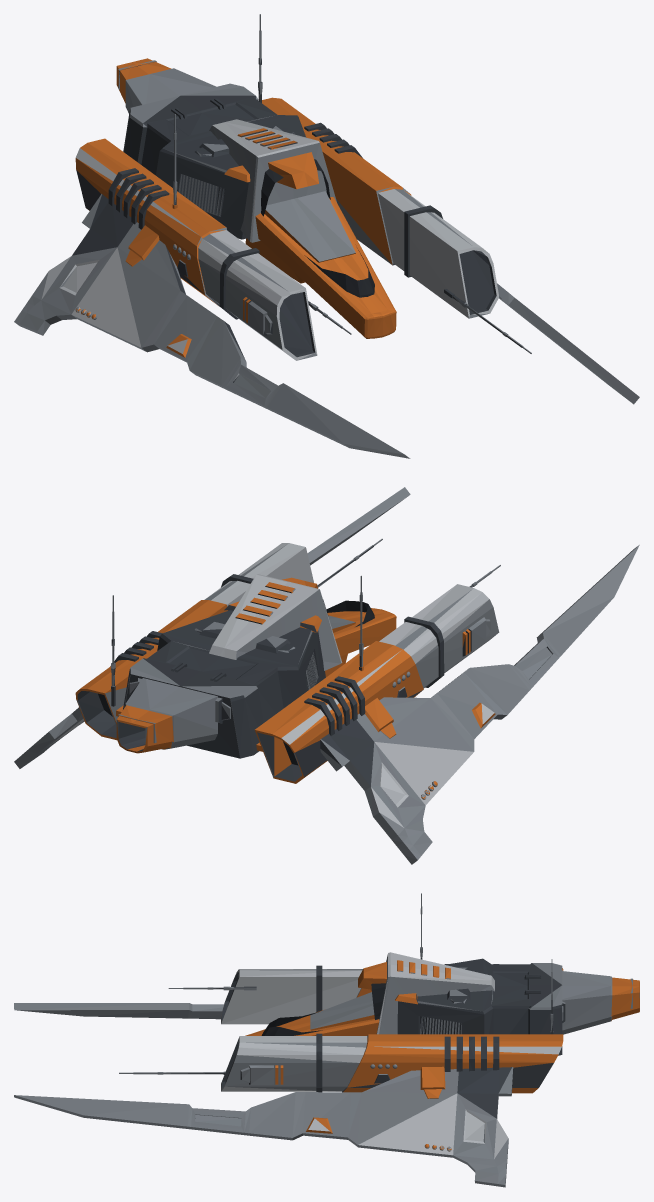
Rendered from Ship_Dart_LP.fbx.
3 renders of one model, top to bottom at view 1: azimuth 30°, elevation 25°; view 2: azimuth 150°, elevation 25°; view 3: azimuth 270°, elevation 25°, orthographic. The views are drawn at different scales.
Visible parts, largest first — view 1: Ship_Dart_LP; view 2: Ship_Dart_LP; view 3: Ship_Dart_LP.
Boxes of the visible parts, x1,y1,x2,y2 form: Ship_Dart_LP: (14, 14, 639, 458); Ship_Dart_LP: (14, 487, 639, 864); Ship_Dart_LP: (14, 893, 639, 1187).
Size of the model in its own units: 8.96 by 4.78 by 15.
